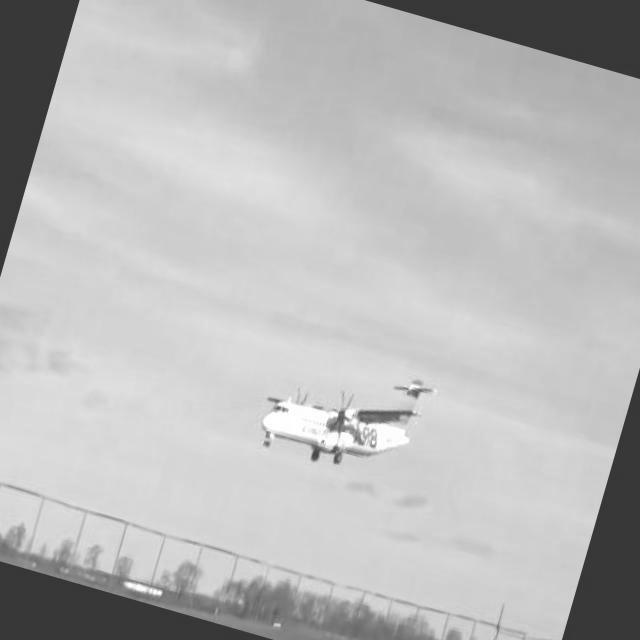aeroplane: (251, 340, 434, 487)
